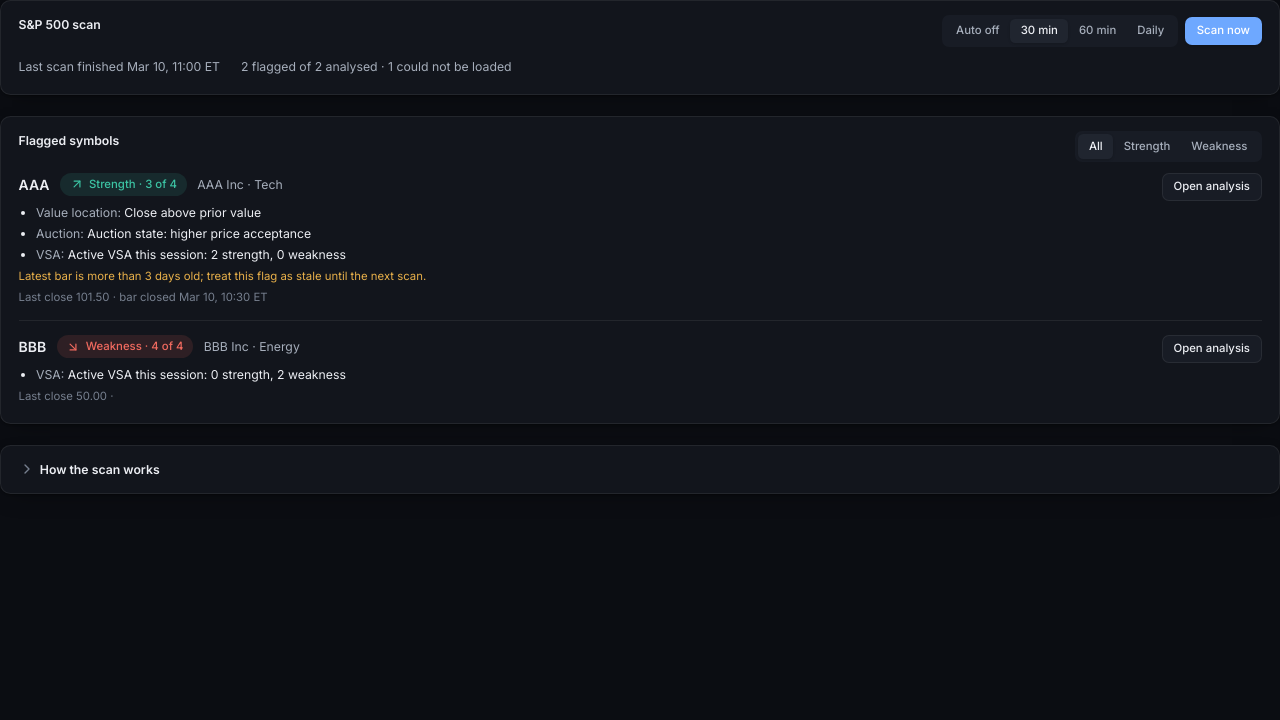
Test: ScanBoard › filters by direction
The image size is (1280, 720).
Expected: the text "AAA" is shown, [18,174,50,195]
Click the radio button labelled "Weakness": (1219,147) [1181,134,1258,159]
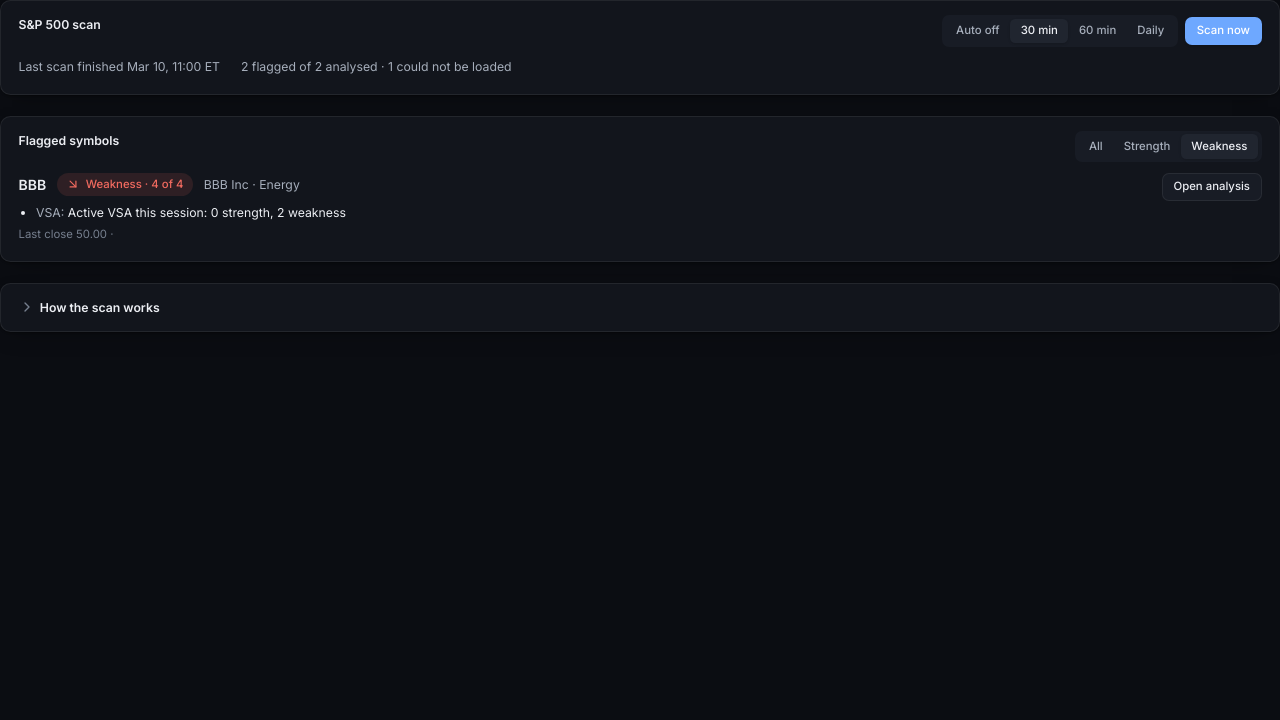
Expected: the text "BBB" is shown, [18,174,46,195]
Expected: the text "AAA" is gone
